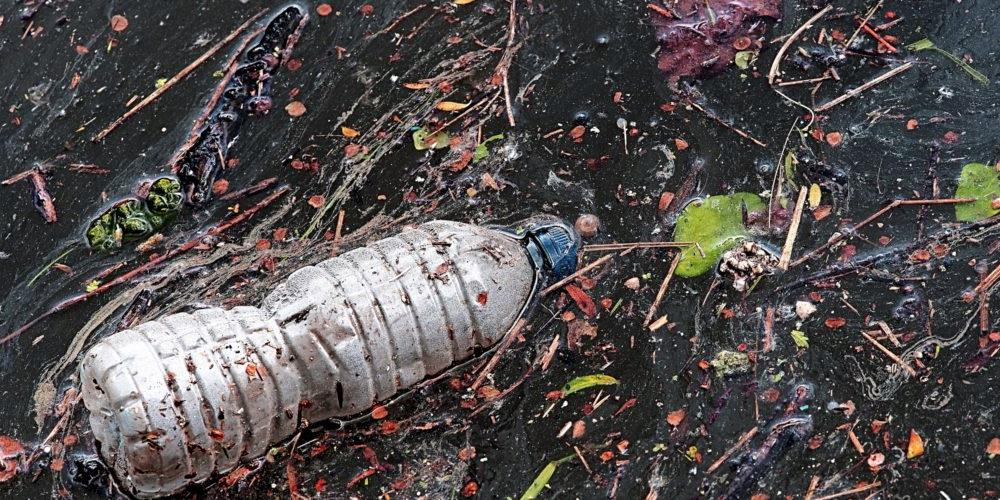Plastic: (80, 222, 573, 496)
